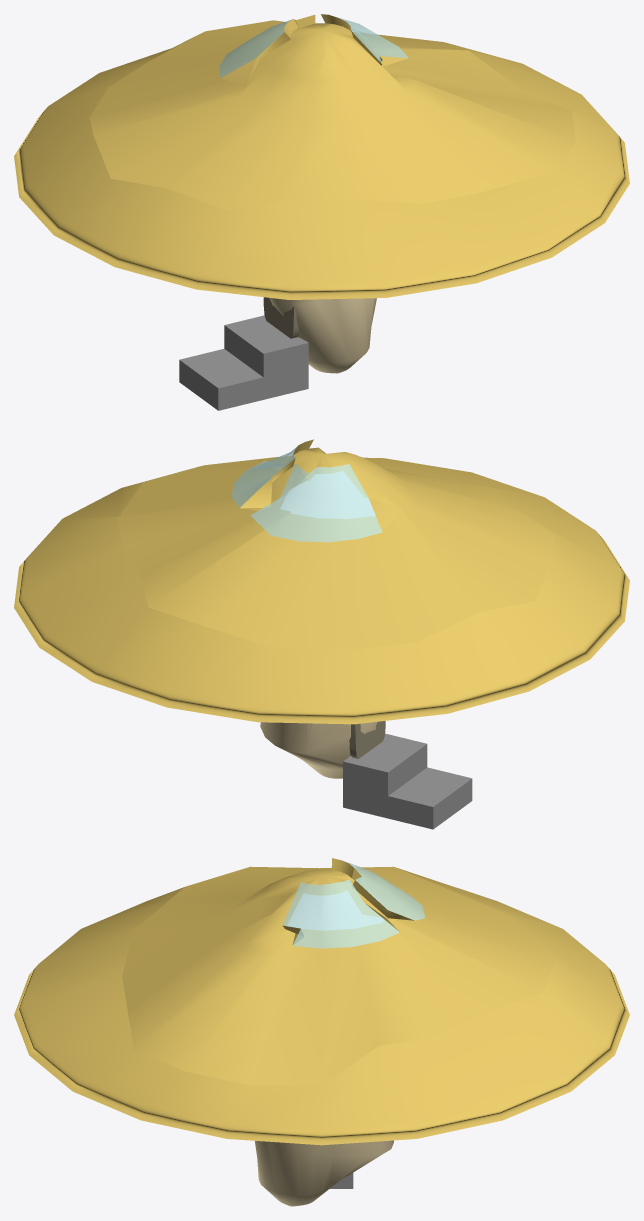
File: mushroom_architecture.glb
3 renders of one model, top to bottom at view 1: azimuth 30°, elevation 25°; view 2: azimuth 150°, elevation 25°; view 3: azimuth 270°, elevation 25°, orthographic.
Parts seen in each view (by area): view 1: pCylinder1, pCube1, pCylinder2; view 2: pCylinder1, pCube1, pCylinder2; view 3: pCylinder1.
Boxes of the visible parts, <box> form: pCylinder1: <box>14,14,629,373</box>; pCube1: <box>179,315,308,410</box>; pCylinder2: <box>263,297,299,338</box>; pCylinder1: <box>14,439,629,778</box>; pCube1: <box>343,733,472,829</box>; pCylinder2: <box>349,721,385,758</box>; pCylinder1: <box>14,858,629,1206</box>.
Size of the model in its own units: 4.91 by 2.94 by 4.91.
